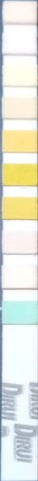color 1: (5, 5, 36, 21)
color 10: (3, 303, 38, 322)
color 2: (3, 35, 35, 52)
color 3: (4, 68, 36, 84)
color 4: (3, 99, 35, 117)
color 5: (4, 132, 35, 151)
color 6: (4, 165, 36, 183)
color 7: (3, 198, 36, 218)
color 8: (3, 233, 36, 251)
color 9: (3, 267, 36, 287)
